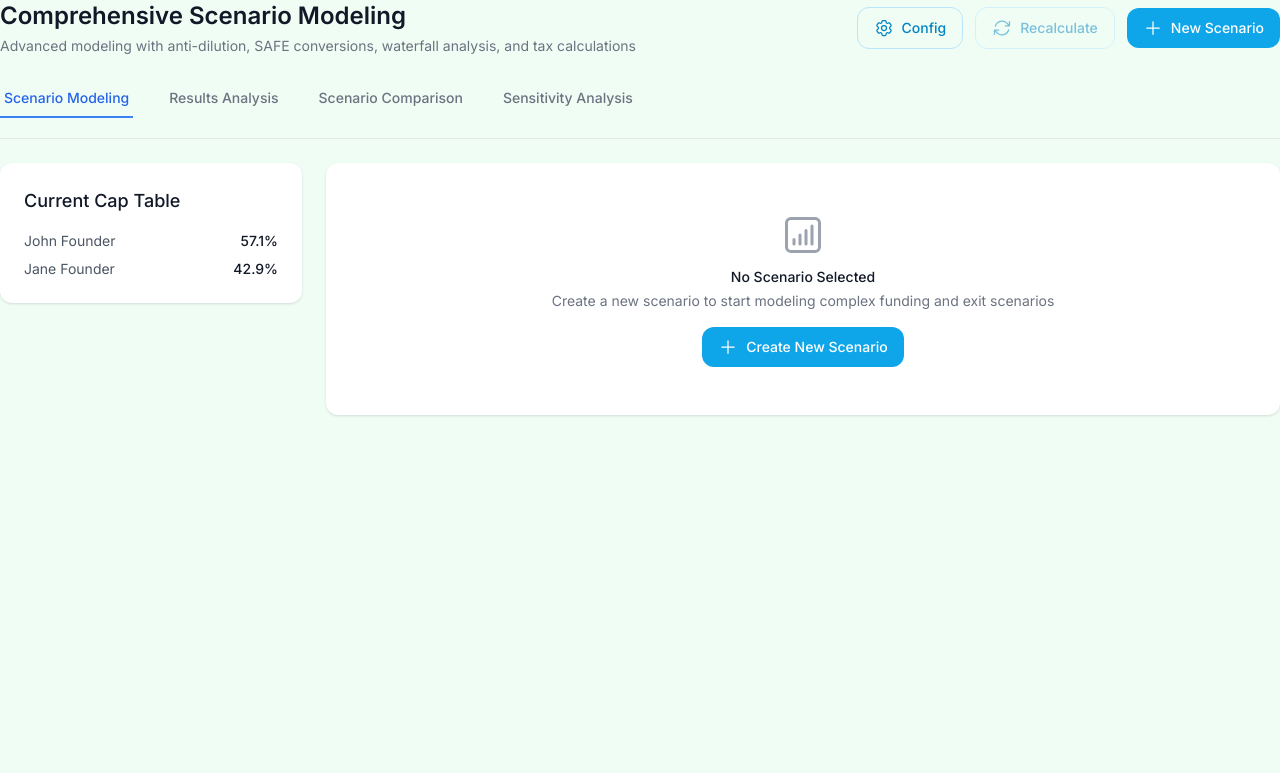
Scenario: ComprehensiveScenarioModeler › should create a new scenario when button is clicked
The image size is (1280, 773).
Expected: the text "New Scenario" is shown, [1143,18,1264,38]
Click the button "New Scenario". click: (1203, 28)
box: [1127,8,1279,48]
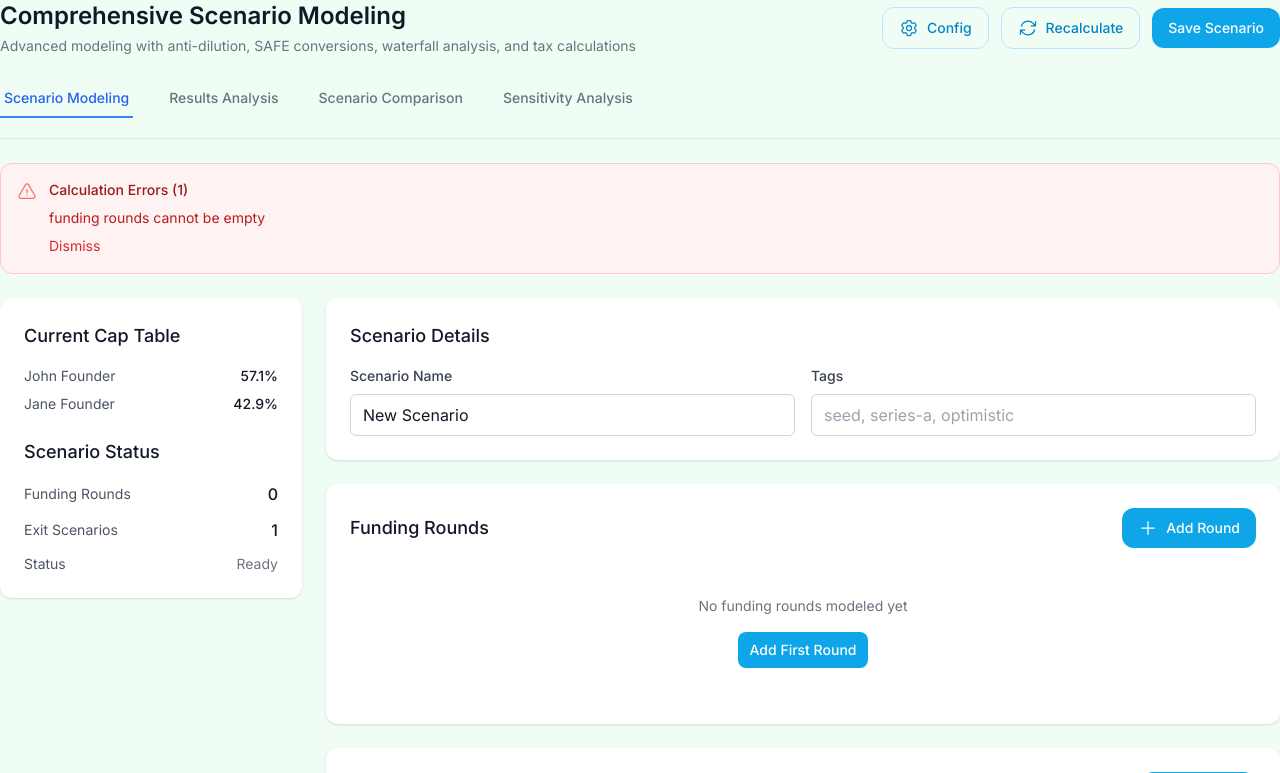
Expected: the button "Scenario Modeling" is shown, [0,80,133,118]
Result: the field showing "New Scenario" is shown at [350,394,795,436]
